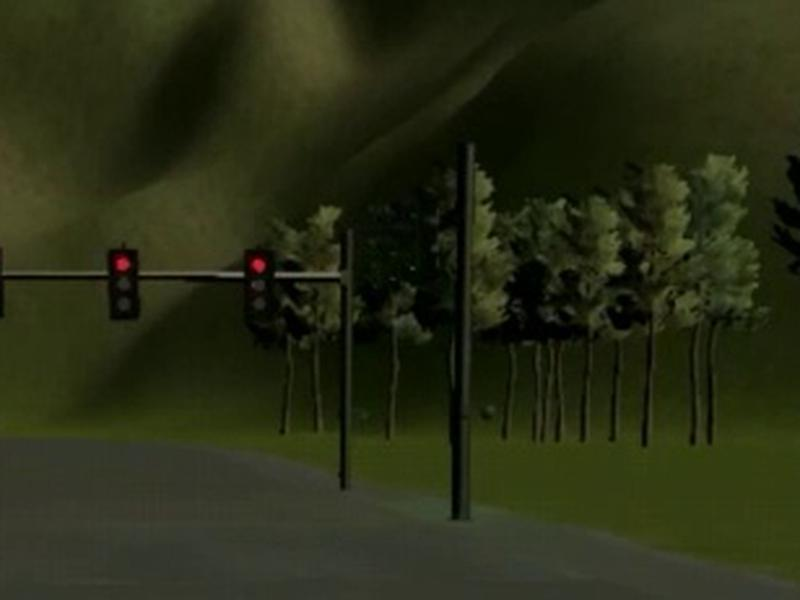Red: (108, 250, 140, 318), (245, 250, 275, 320)
